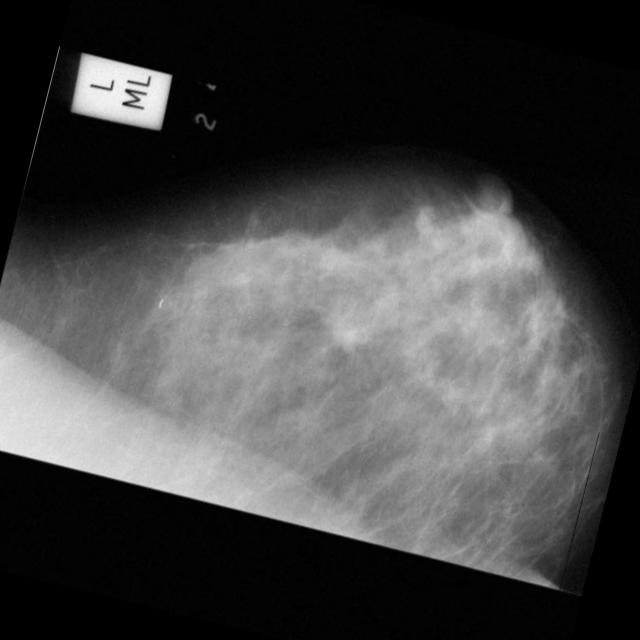CALC: (144, 282, 190, 326)
